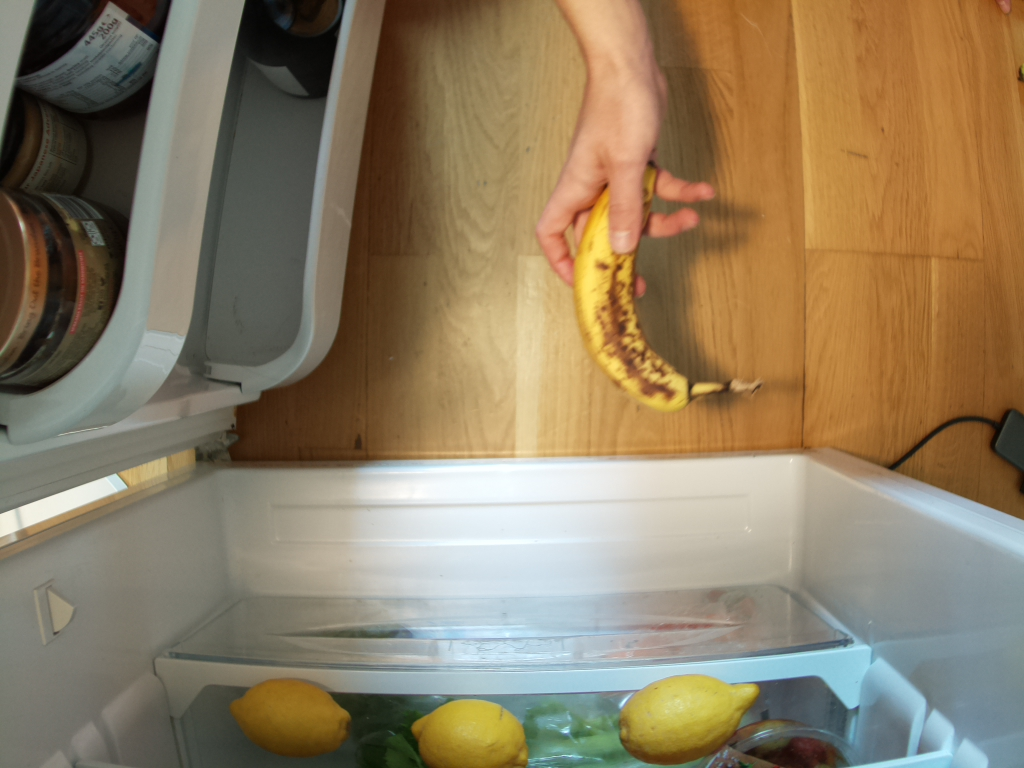banana-overripe: (575, 159, 759, 410)
